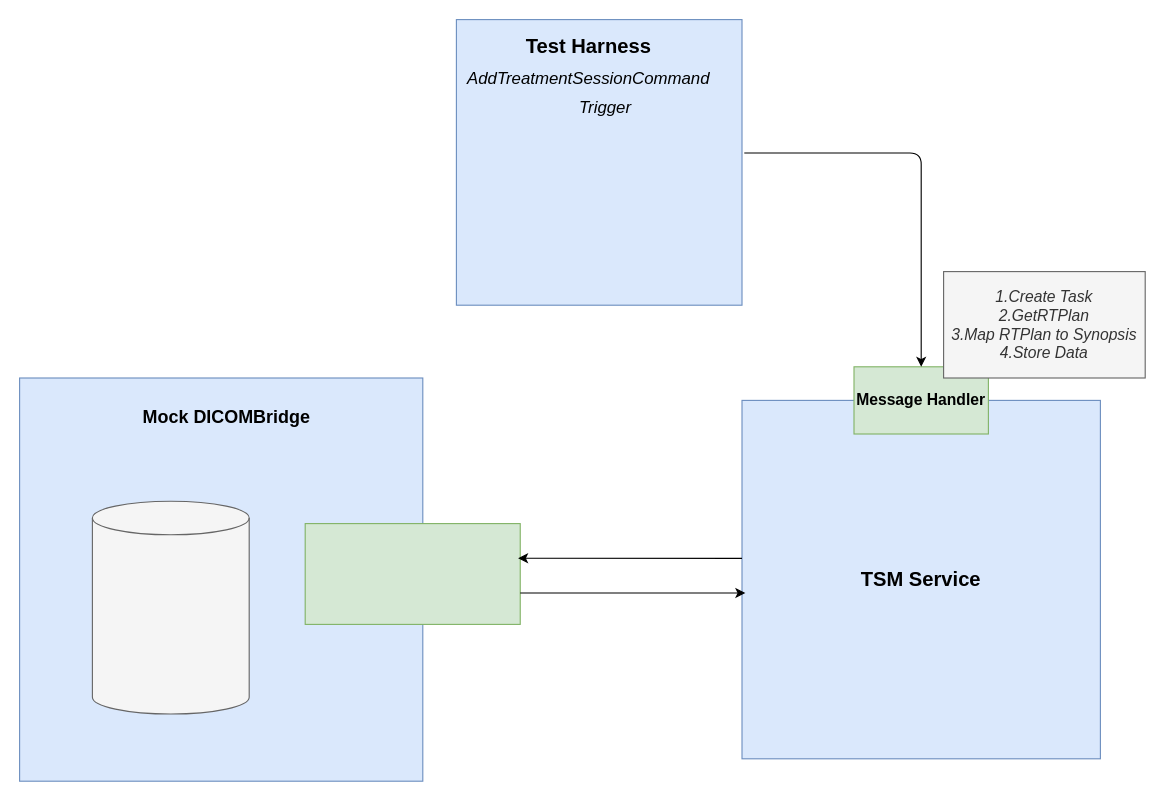
Image size: 1165x801. Some labels were removed from this diagram. Each missing label, with the centre of its shape:
"API RTPlan GetRTPlan(string uid)" belongs at point (412, 573).
"RTPlan JSON File" belongs at point (170, 607).
